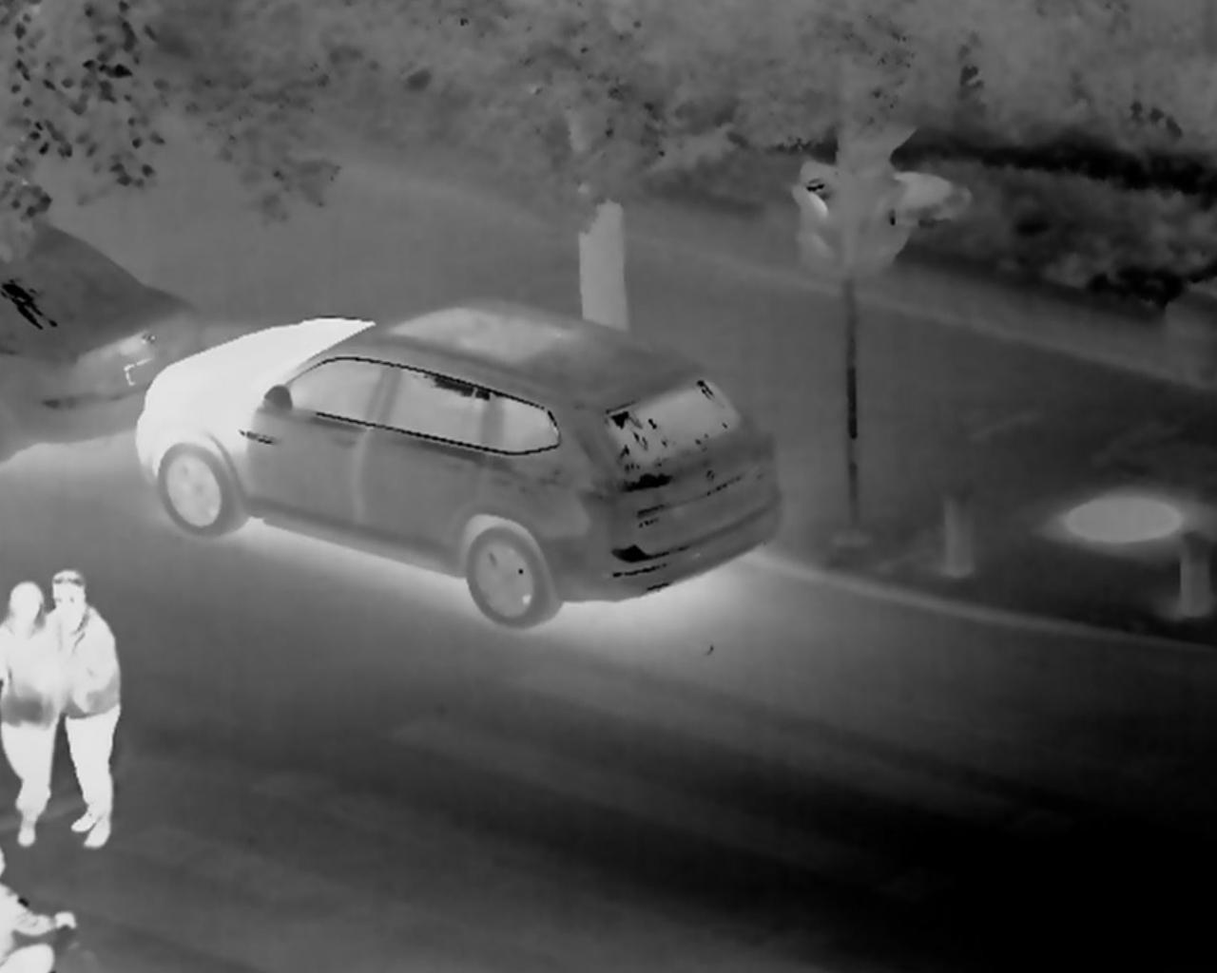person: (39, 568, 129, 858)
